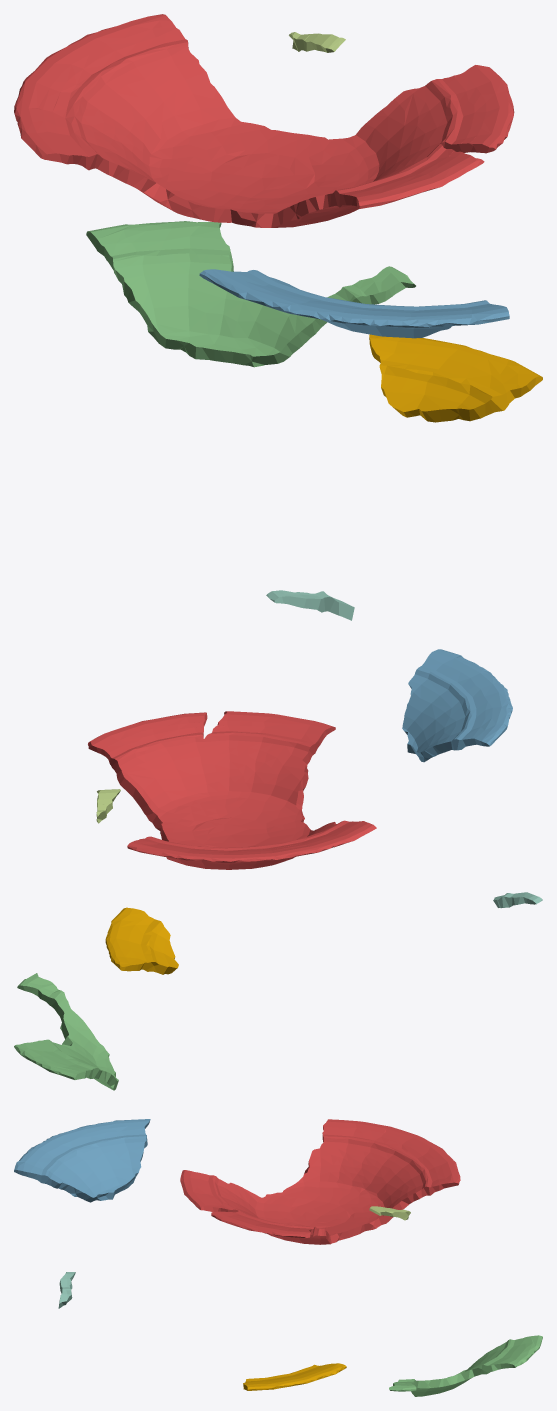
Rendered from fractured_44_6pcs_transformed.glb.
3 renders of one model, top to bottom at view 1: azimuth 30°, elevation 25°; view 2: azimuth 150°, elevation 25°; view 3: azimuth 270°, elevation 25°, orthographic. The views are drawn at different scales.
Visible parts, largest first — view 1: piece_1.obj, piece_3.obj, piece_0.obj, piece_2.obj, piece_4.obj, piece_5.obj; view 2: piece_1.obj, piece_2.obj, piece_3.obj, piece_0.obj, piece_4.obj; view 3: piece_1.obj, piece_2.obj, piece_3.obj, piece_0.obj, piece_4.obj, piece_5.obj.
Part boxes in pixels (x1,y1,x2,y2): piece_1.obj: (14, 14, 514, 227); piece_3.obj: (86, 221, 415, 367); piece_0.obj: (369, 334, 542, 422); piece_2.obj: (199, 269, 509, 338); piece_4.obj: (266, 590, 354, 620); piece_5.obj: (289, 32, 345, 52); piece_1.obj: (88, 711, 376, 869); piece_2.obj: (402, 649, 512, 762); piece_3.obj: (14, 973, 118, 1090); piece_0.obj: (105, 907, 178, 974); piece_4.obj: (493, 892, 542, 908); piece_1.obj: (180, 1119, 460, 1244); piece_2.obj: (14, 1119, 150, 1202); piece_3.obj: (389, 1335, 542, 1396); piece_0.obj: (243, 1363, 346, 1390); piece_4.obj: (58, 1272, 75, 1308); piece_5.obj: (369, 1206, 410, 1220).
Size of the model in its own units: 1 by 0.7649 by 1.88.
